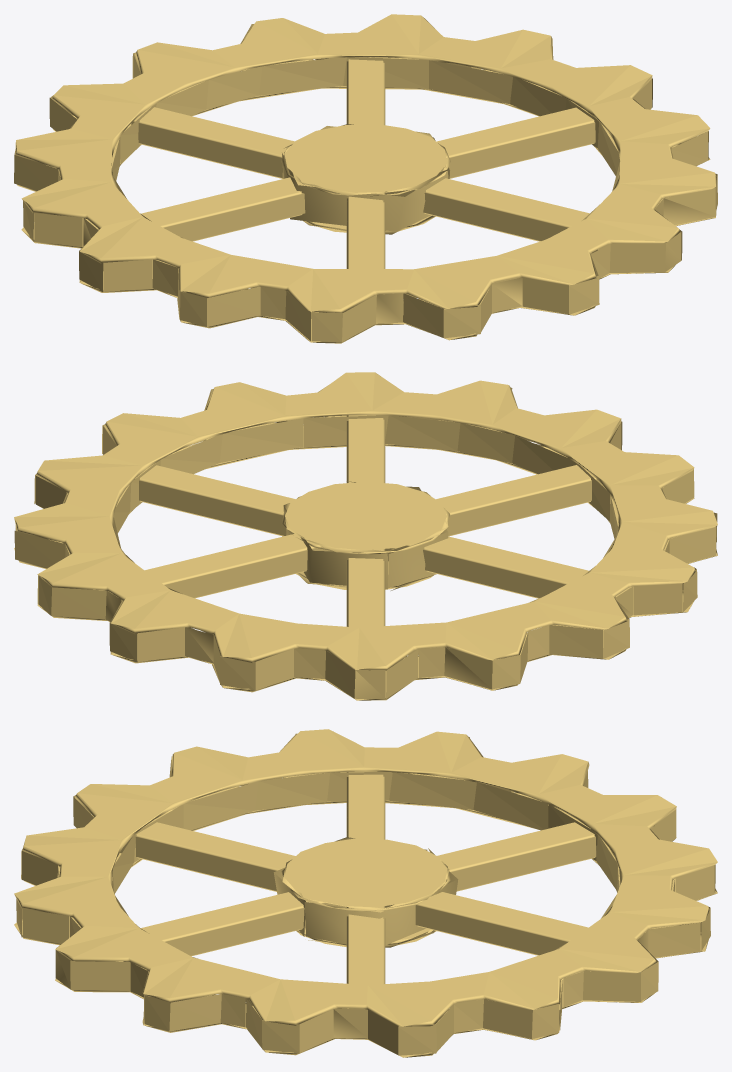
Rendered from boss_gear_large.glb.
The picture shows the model from 3 angles, top to bottom: view 1: azimuth 30°, elevation 25°; view 2: azimuth 150°, elevation 25°; view 3: azimuth 270°, elevation 25°; orthographic projection.
Parts seen in each view (by area): view 1: GearLarge, GearLarge_Hub; view 2: GearLarge, GearLarge_Hub; view 3: GearLarge, GearLarge_Hub.
Part boxes in pixels (box(x1,y1,x2,y2)): GearLarge: box(14, 14, 717, 343); GearLarge_Hub: box(281, 124, 450, 234); GearLarge: box(14, 372, 717, 700); GearLarge_Hub: box(282, 481, 449, 590); GearLarge: box(14, 729, 717, 1057); GearLarge_Hub: box(273, 837, 458, 947).
Size of the model in its own units: 6.58 by 0.4248 by 6.58.
